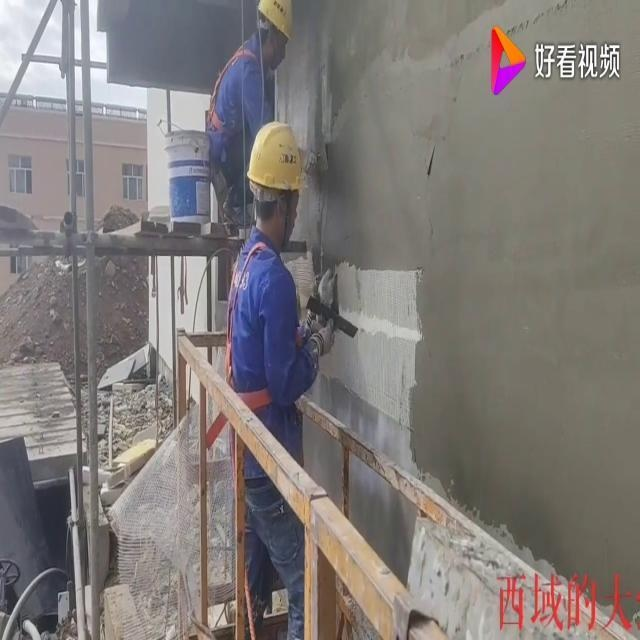Arnes_seguridad: (219, 233, 303, 411), (205, 32, 267, 136)
